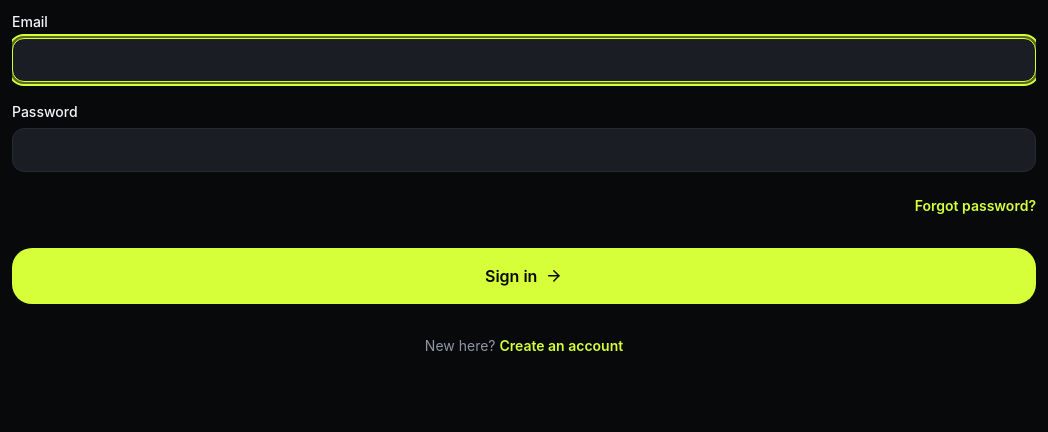
Test: LoginForm › shows an error on 401
Type "runner@example.com" into the field labelled "Email". click: [524, 60]
box: [12, 38, 1036, 82]
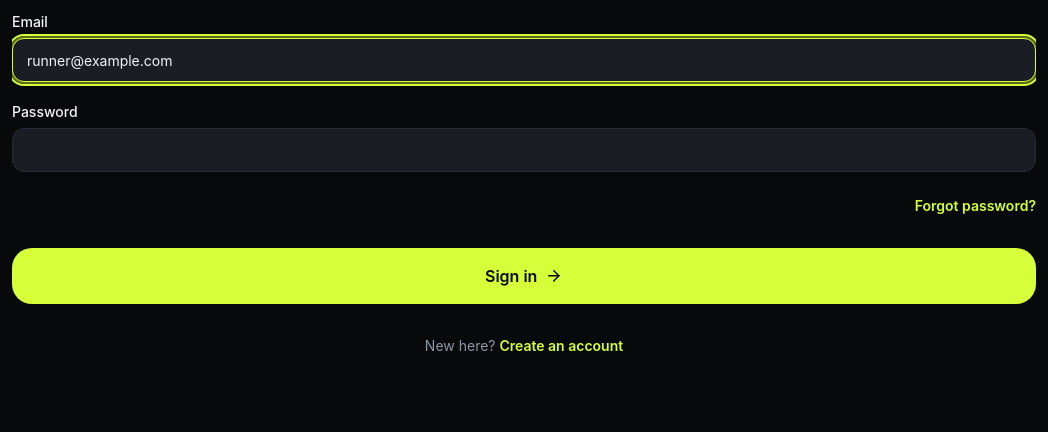
Type "nope" into the password field labelled "Password". click: [524, 150]
box: [12, 128, 1036, 172]
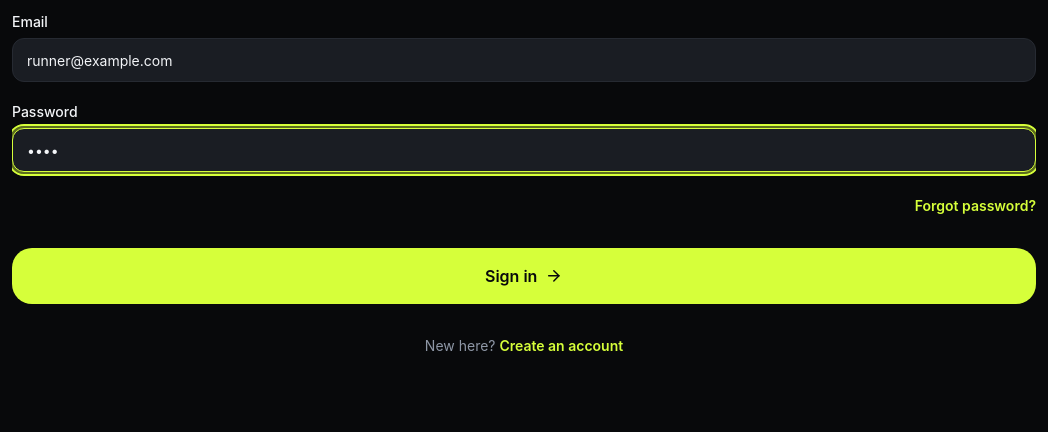
Click the button "Sign in". click: [524, 276]
box: [12, 248, 1036, 304]
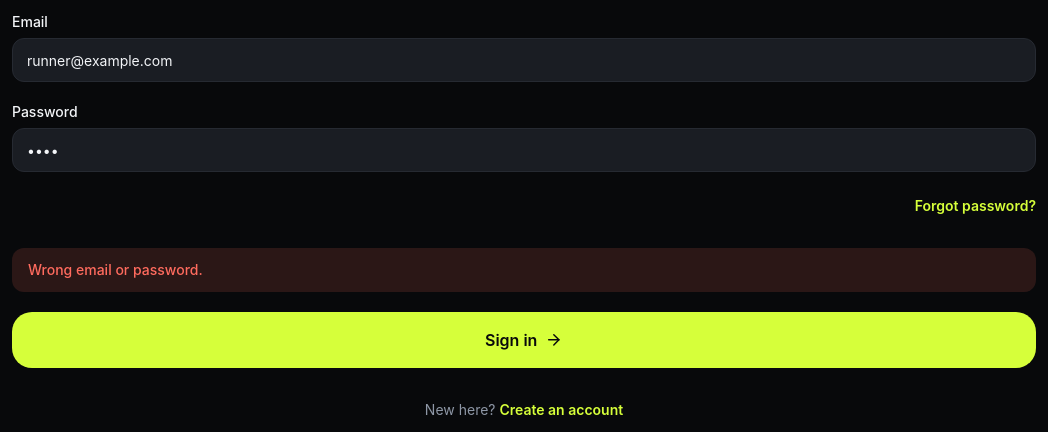
expect the message reads "Wrong email or password.": met, box [28, 261, 203, 278]
